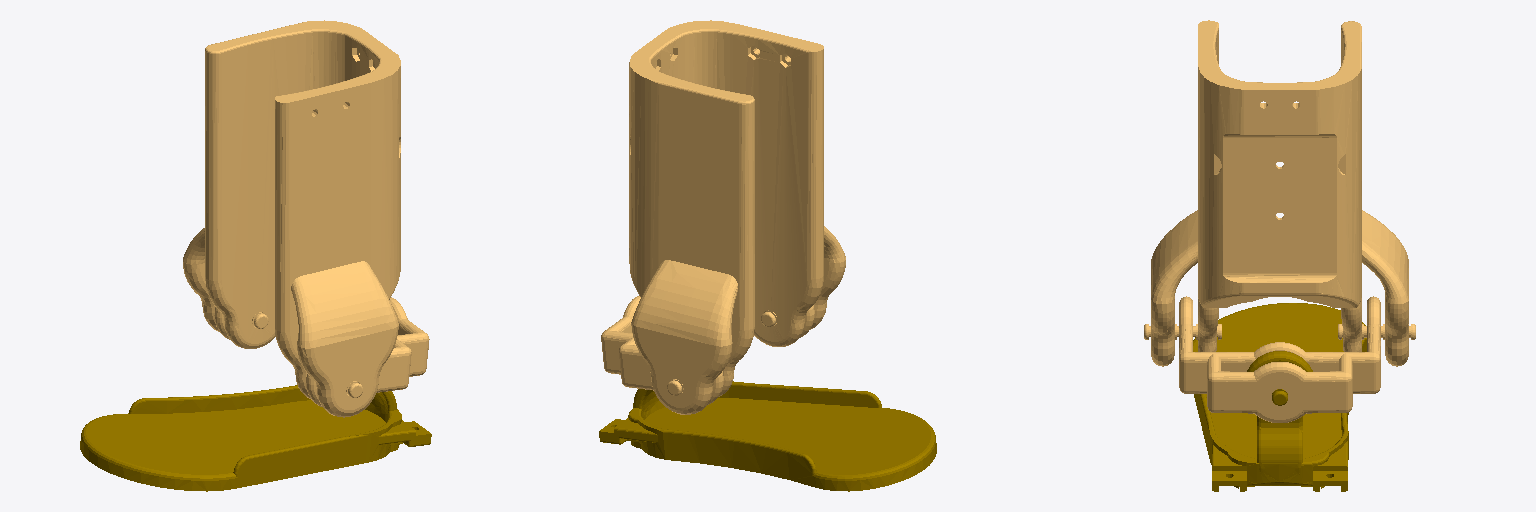
URDF robot description (assembly_foot):
<robot
  name="assembly_foot">
  <link
    name="base_link">
    <inertial>
      <origin
        xyz="0.057586 0.085205 0.11532"
        rpy="0 0 0" />
      <mass
        value="4.0351" />
      <inertia
        ixx="0"
        ixy="0"
        ixz="0"
        iyy="0"
        iyz="0"
        izz="0" />
    </inertial>
    <visual>
      <origin
        xyz="0 0 0"
        rpy="0 0 0" />
      <geometry>
        <mesh
          filename="package://assembly_foot/meshes/base_link.STL" />
      </geometry>
      <material
        name="">
        <color
          rgba="1 0.80784 0.49804 1" />
      </material>
    </visual>
    <collision>
      <origin
        xyz="0 0 0"
        rpy="0 0 0" />
      <geometry>
        <mesh
          filename="package://assembly_foot/meshes/base_link.STL" />
      </geometry>
    </collision>
  </link>
  <link
    name="knee_y">
    <inertial>
      <origin
        xyz="0.030939 2.9907E-09 0.058"
        rpy="0 0 0" />
      <mass
        value="0.55783" />
      <inertia
        ixx="3.4898E-05"
        ixy="-1.9612E-12"
        ixz="-1.4719E-11"
        iyy="5.5187E-05"
        iyz="-2.8528E-18"
        izz="2.0288E-05" />
    </inertial>
    <visual>
      <origin
        xyz="0 0 0"
        rpy="0 0 0" />
      <geometry>
        <mesh
          filename="package://assembly_foot/meshes/knee_y.STL" />
      </geometry>
      <material
        name="">
        <color
          rgba="1 0.80784 0.49804 1" />
      </material>
    </visual>
    <collision>
      <origin
        xyz="0 0 0"
        rpy="0 0 0" />
      <geometry>
        <mesh
          filename="package://assembly_foot/meshes/knee_y.STL" />
      </geometry>
    </collision>
  </link>
  <joint
    name="jknee_y"
    type="revolute">
    <origin
      xyz="0.047312 -0.057348 0.023041"
      rpy="1.5708 0.10978 -6.749E-18" />
    <parent
      link="base_link" />
    <child
      link="knee_y" />
    <axis
      xyz="0 0 1" />
    <limit
      effort="0"
      velocity="0" />
  </joint>
  <link
    name="knee_x">
    <inertial>
      <origin
        xyz="-0.014029 -0.041642 0.0086143"
        rpy="0 0 0" />
      <mass
        value="1.4091" />
      <inertia
        ixx="1.4298E-05"
        ixy="-1.9233E-05"
        ixz="2.8371E-07"
        iyy="2.588E-05"
        iyz="2.1087E-07"
        izz="4.0172E-05" />
    </inertial>
    <visual>
      <origin
        xyz="0 0 0"
        rpy="0 0 0" />
      <geometry>
        <mesh
          filename="package://assembly_foot/meshes/knee_x.STL" />
      </geometry>
      <material
        name="">
        <color
          rgba="0.64706 0.51765 0 1" />
      </material>
    </visual>
    <collision>
      <origin
        xyz="0 0 0"
        rpy="0 0 0" />
      <geometry>
        <mesh
          filename="package://assembly_foot/meshes/knee_x.STL" />
      </geometry>
    </collision>
  </link>
  <joint
    name="jknee_x"
    type="revolute">
    <origin
      xyz="0 0 0.05"
      rpy="0.0001124 -3.8964E-20 3.3307E-16" />
    <parent
      link="knee_y" />
    <child
      link="knee_x" />
    <axis
      xyz="1 0 0" />
    <limit
      effort="0"
      velocity="0" />
  </joint>

    <transmission name="m_knee_y">
    <type>transmission_interface/SimpleTransmission</type>
    <joint name="jknee_y">
    <hardwareInterface>hardware_interface/EffortJointInterface</hardwareInterface>
    </joint>
    <actuator name="m_y">
    <mechanicalReduction>1</mechanicalReduction>
    <hardwareInterface>hardware_interface/EffortJointInterface</hardwareInterface>
    </actuator>
	</transmission>	

    <transmission name="m_knee_x">
    <type>transmission_interface/SimpleTransmission</type>
    <joint name="jknee_x">
    <hardwareInterface>hardware_interface/EffortJointInterface</hardwareInterface>
    </joint>
    <actuator name="m_x">
    <mechanicalReduction>1</mechanicalReduction>
    <hardwareInterface>hardware_interface/EffortJointInterface</hardwareInterface>
    </actuator>
	</transmission>	

	<gazebo>
   		<plugin name="gazebo_ros_control" filename="libgazebo_ros_control.so">
      	  <robotNamespace>/assembly_foot</robotNamespace>
 	   </plugin>
	</gazebo>
</robot>

--- Render facts (derived) ---
Views: 3 orthographic renders of the robot side by side, from view 1: azimuth 30°, elevation 25°; view 2: azimuth 150°, elevation 25°; view 3: azimuth 270°, elevation 25°.
Model assembly_foot with 3 links and 2 joints (2 revolute), rooted at base_link, posed every joint at zero.
Visible links, largest first — view 1: base_link, knee_x, knee_y; view 2: base_link, knee_x, knee_y; view 3: base_link, knee_x, knee_y.
Link boxes in pixels (x1,y1,x2,y2): base_link: [183, 20, 400, 417]; knee_x: [80, 385, 431, 491]; knee_y: [214, 297, 429, 406]; base_link: [629, 20, 845, 414]; knee_x: [599, 381, 936, 491]; knee_y: [601, 296, 814, 404]; base_link: [1151, 20, 1408, 366]; knee_x: [1193, 303, 1366, 491]; knee_y: [1144, 296, 1415, 422].
Size in the robot's own frame: 0.1533 by 0.116 by 0.1882 metres.
3 mesh visuals loaded from 3 distinct referenced files (3 binary STL).
